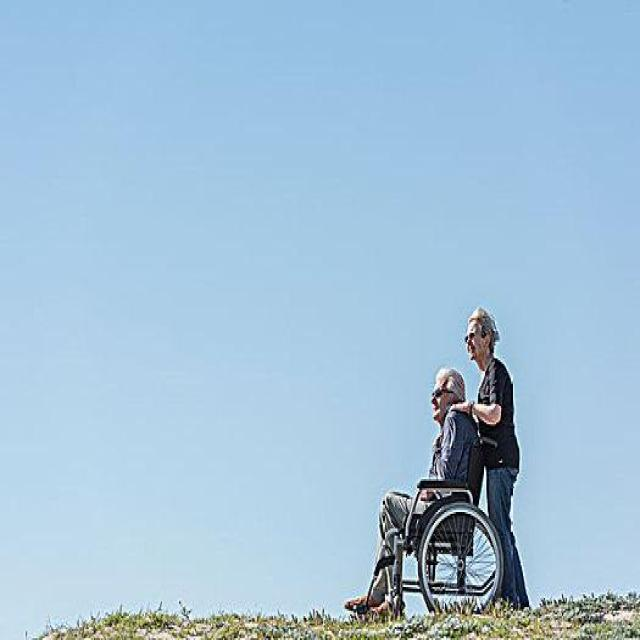wheelchairs: (345, 435, 510, 632)
